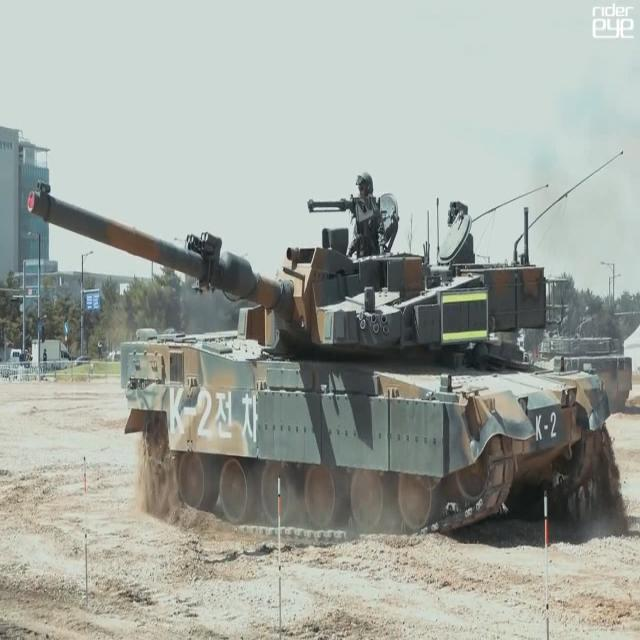korea tank: (27, 169, 613, 536)
